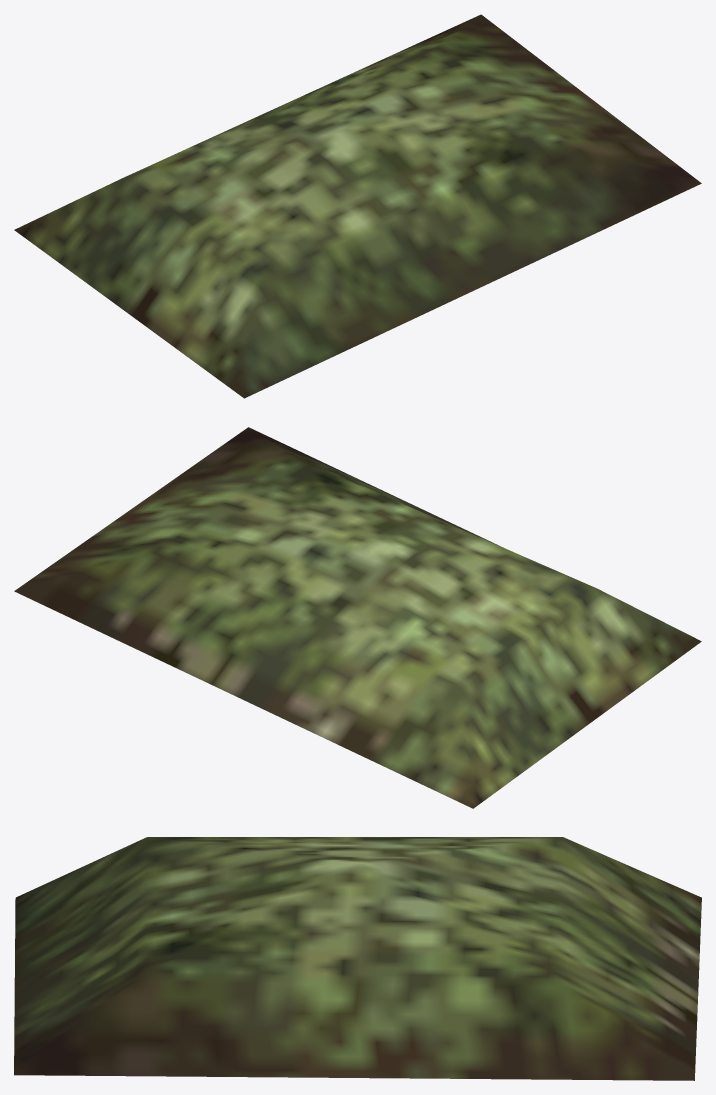
The model's file is OZ_20_wv_T04grain02B.glb.
3 views of the same model, one above another, from view 1: azimuth 30°, elevation 25°; view 2: azimuth 150°, elevation 25°; view 3: azimuth 270°, elevation 25° (orthographic). The views are drawn at different scales.
Parts seen in each view (by area): view 1: OM_20_wv_T04grain02B; view 2: OM_20_wv_T04grain02B; view 3: OM_20_wv_T04grain02B.
Part boxes in pixels (x1,y1,x2,y2): OM_20_wv_T04grain02B: [14, 14, 701, 398]; OM_20_wv_T04grain02B: [14, 427, 701, 808]; OM_20_wv_T04grain02B: [14, 837, 701, 1080].
Size of the model in its own units: 0.4672 by 0.1239 by 0.4019.
1 material, 1 textured.
